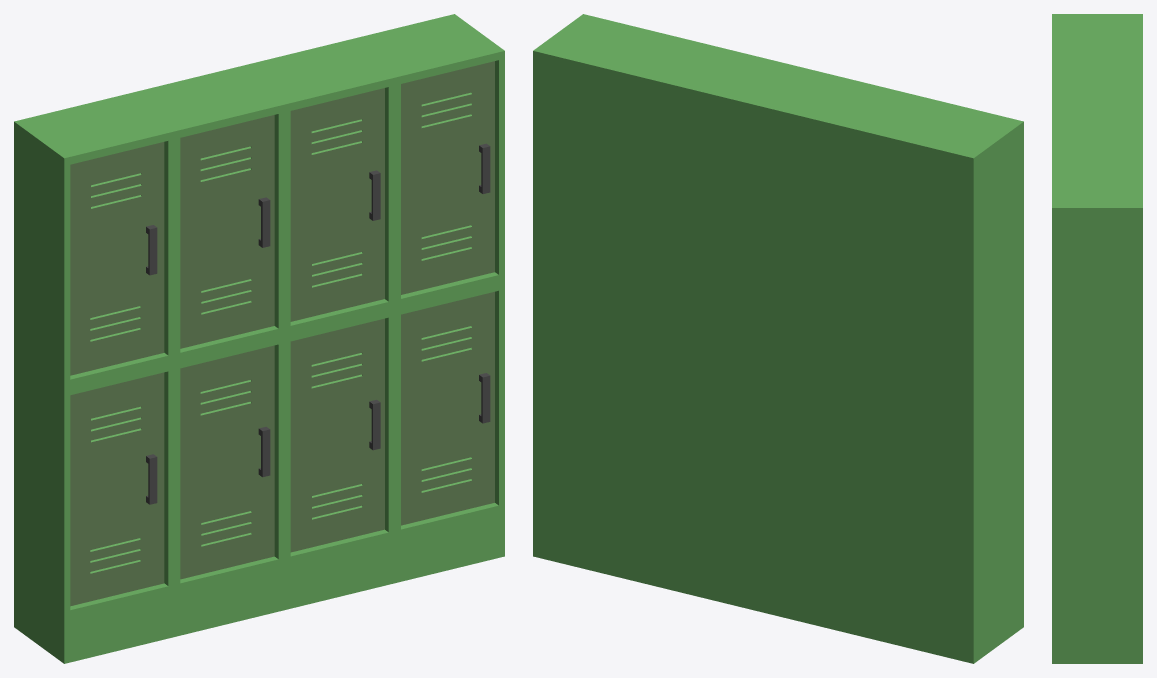
File: Locker.fbx
The picture shows the model from 3 angles, left to right: view 1: azimuth 30°, elevation 25°; view 2: azimuth 150°, elevation 25°; view 3: azimuth 270°, elevation 25°; orthographic projection. The views are drawn at different scales.
Parts seen in each view (by area): view 1: Locker_Combined1; view 2: Locker_Combined1; view 3: Locker_Combined1.
Boxes of the visible parts, left/top/right/bottom form: Locker_Combined1: left=14, top=14, right=504, bottom=663; Locker_Combined1: left=533, top=14, right=1023, bottom=663; Locker_Combined1: left=1052, top=14, right=1142, bottom=663.
Bounding box in the file's own units: 20.97 × 23 × 4.15.
